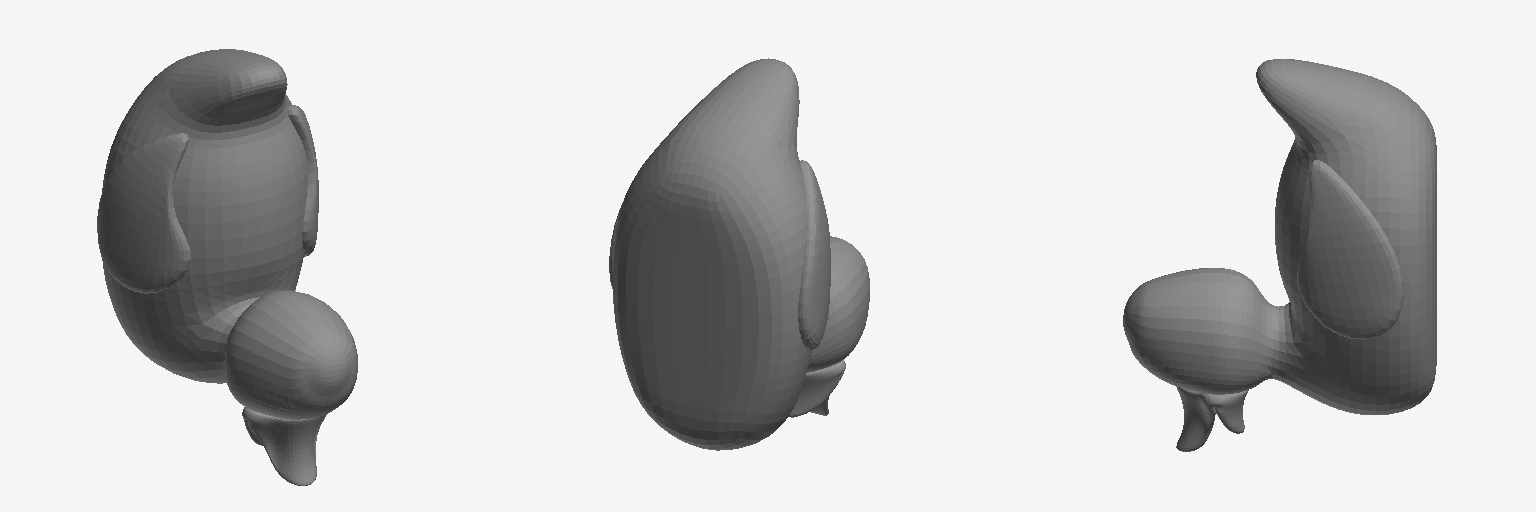
Rendered from pato_borracha.obj.
3 renders of one model, left to right at view 1: azimuth 30°, elevation 25°; view 2: azimuth 150°, elevation 25°; view 3: azimuth 270°, elevation 25°, orthographic.
Visible parts, largest first — view 1: 10602_Rubber_Duck_v1; view 2: 10602_Rubber_Duck_v1; view 3: 10602_Rubber_Duck_v1.
Boxes of the visible parts, x1,y1,x2,y2 form: 10602_Rubber_Duck_v1: [97, 49, 357, 485]; 10602_Rubber_Duck_v1: [609, 58, 869, 450]; 10602_Rubber_Duck_v1: [1123, 59, 1436, 451].
Bounding box in the file's own units: 5.14 × 9.38 × 6.95.